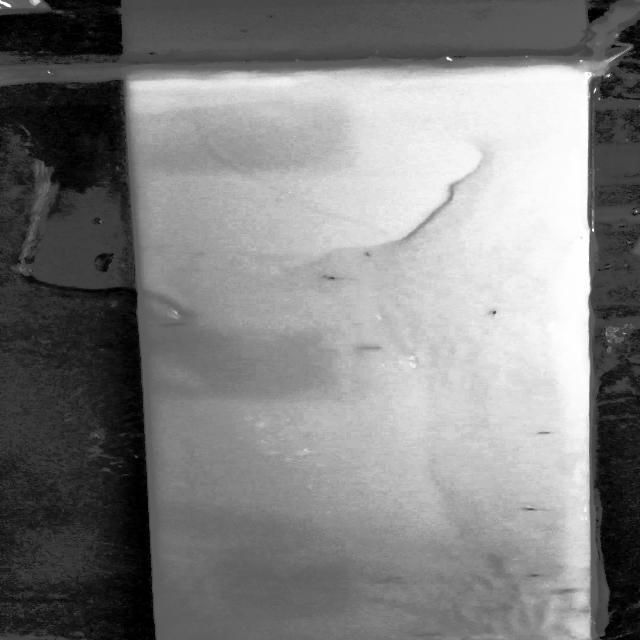shrimp: (456, 302, 518, 325), (310, 265, 361, 288), (506, 563, 558, 585), (522, 423, 577, 443), (522, 490, 544, 516)
